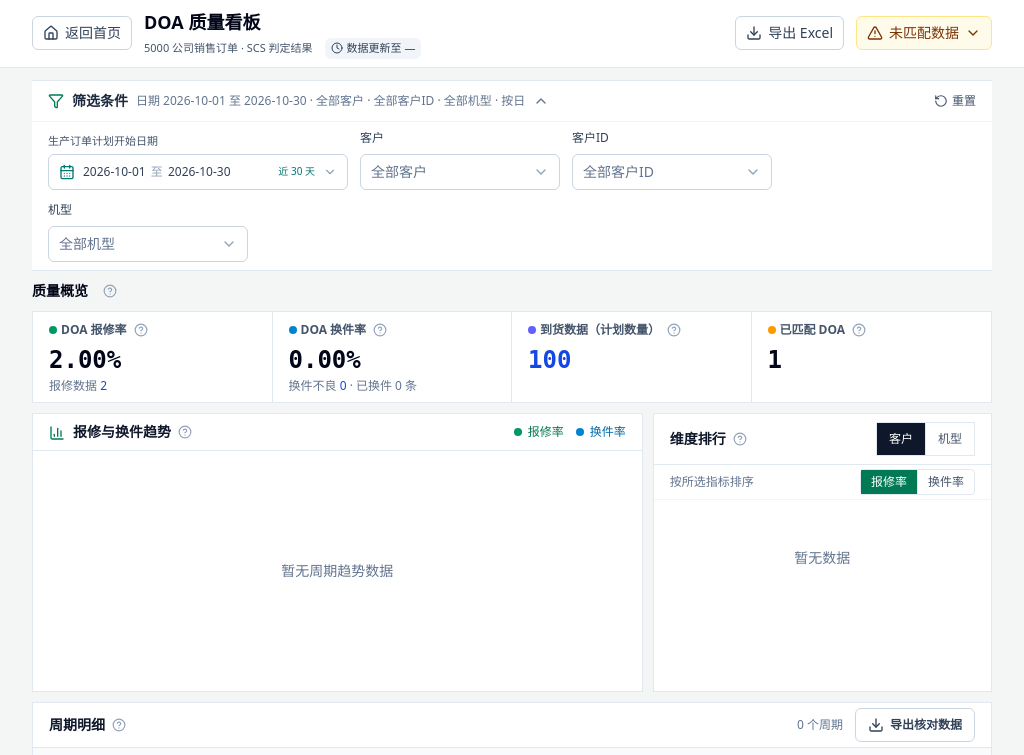
Scenario: DoaPage › shows repairs without a planned date separately from the rate
Click the button "未匹配数据": click(924, 33) top-left (856, 16), bottom-right (992, 50)
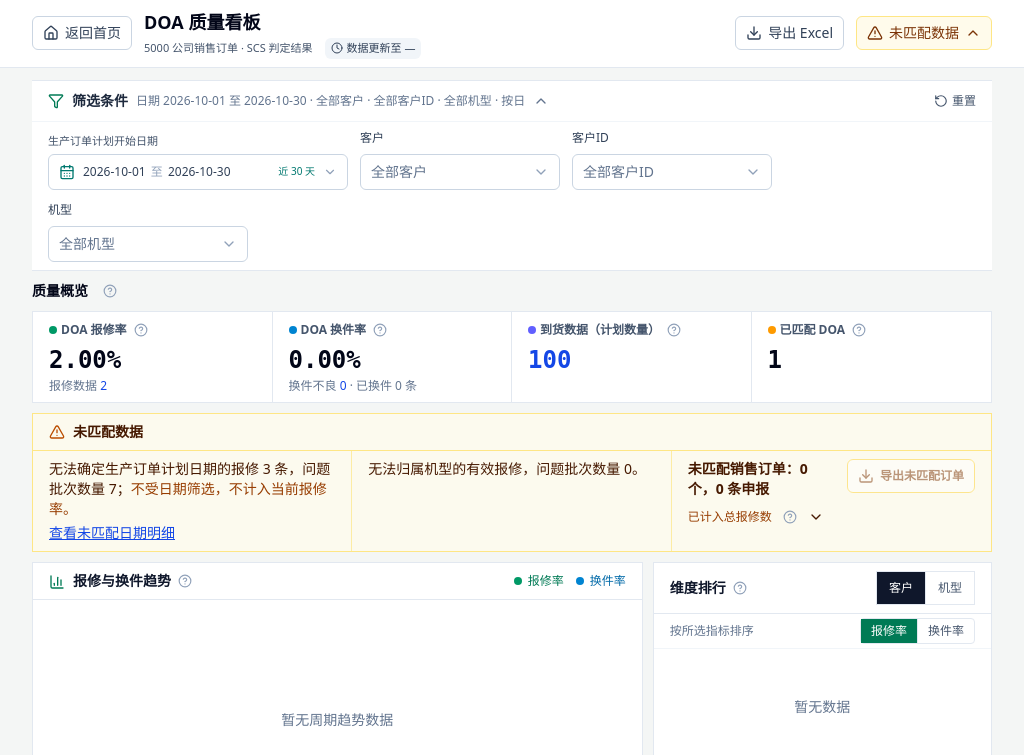
Expected: the text "不受日期筛选，不计入当前报修率。" is shown, top-left (49, 478), bottom-right (327, 518)
Expected: the link "查看未匹配日期明细" is shown, top-left (49, 522), bottom-right (175, 542)
